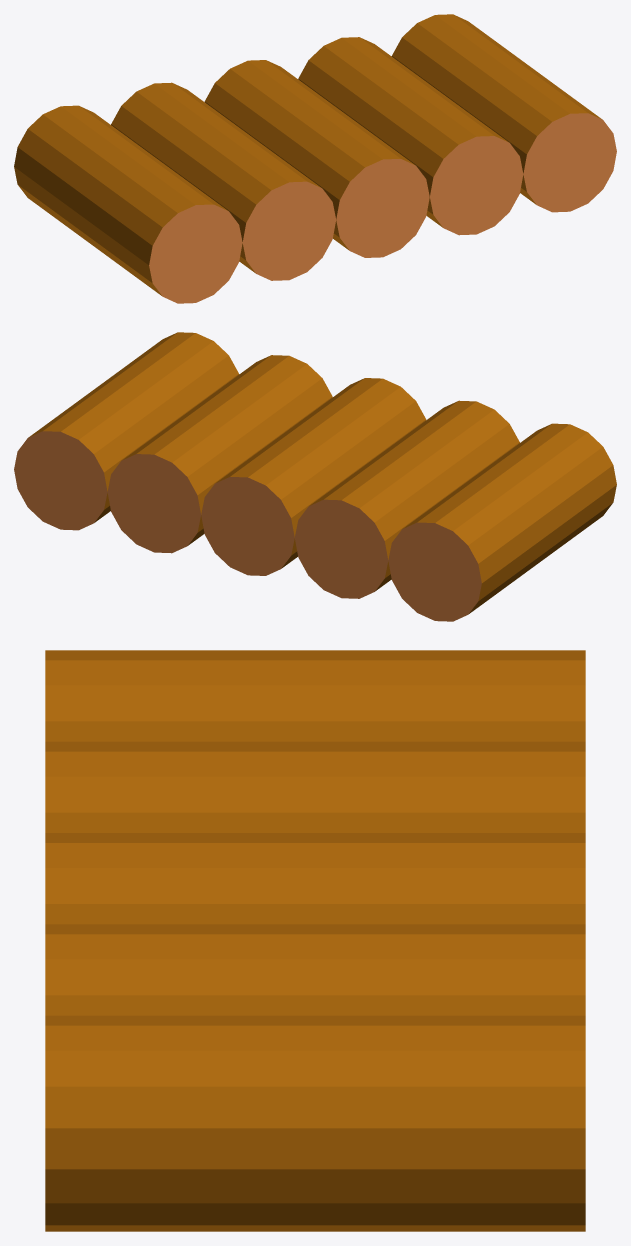
Rendered from Logwalkway.fbx.
3 renders of one model, top to bottom at view 1: azimuth 30°, elevation 25°; view 2: azimuth 150°, elevation 25°; view 3: azimuth 270°, elevation 25°, orthographic. The views are drawn at different scales.
Parts seen in each view (by area): view 1: Cylinder; view 2: Cylinder; view 3: Cylinder.
Part boxes in pixels (x1,y1,x2,y2): Cylinder: (14, 14, 616, 303); Cylinder: (14, 332, 616, 621); Cylinder: (45, 650, 585, 1231).
Bounding box in the file's own units: 1000 × 200 × 500.
